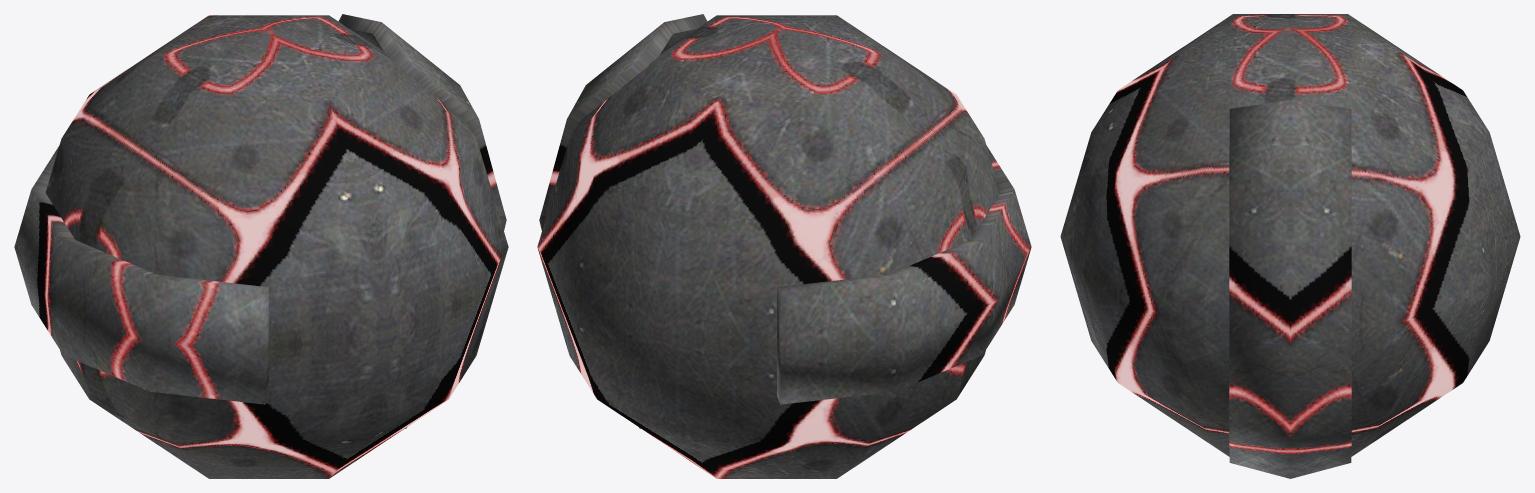
The model's file is spacemine.fbx.
3 renders of one model, left to right at view 1: azimuth 30°, elevation 25°; view 2: azimuth 150°, elevation 25°; view 3: azimuth 270°, elevation 25°, orthographic. The views are drawn at different scales.
Visible parts, largest first — view 1: PipelineFBX; view 2: PipelineFBX; view 3: PipelineFBX.
Boxes of the visible parts, x1,y1,x2,y2 form: PipelineFBX: (14, 14, 508, 478); PipelineFBX: (537, 14, 1031, 478); PipelineFBX: (1060, 14, 1520, 478).
Bounding box in the file's own units: 15.94 × 15 × 15.
1 material, 1 textured.
